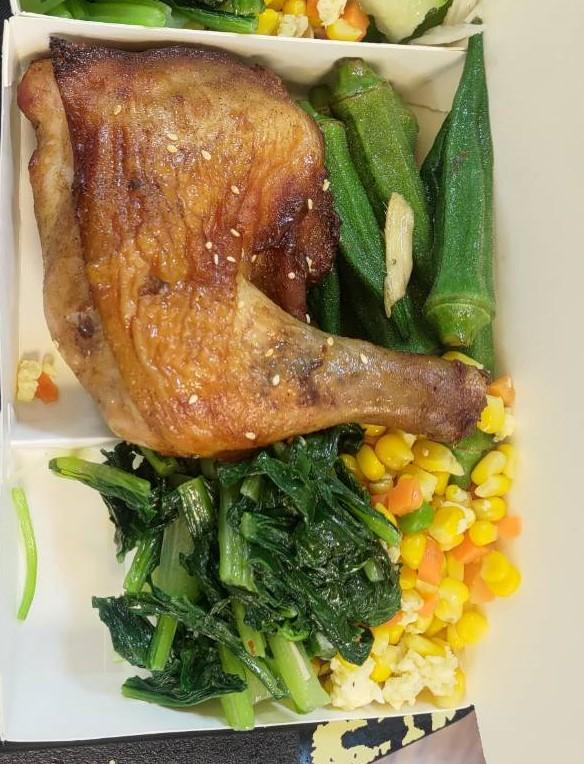big grilled chicken leg: (4, 5, 502, 738)
braised fish fillet: (84, 434, 391, 708), (315, 44, 502, 357), (373, 407, 518, 704)
brown rice: (17, 30, 486, 446)
